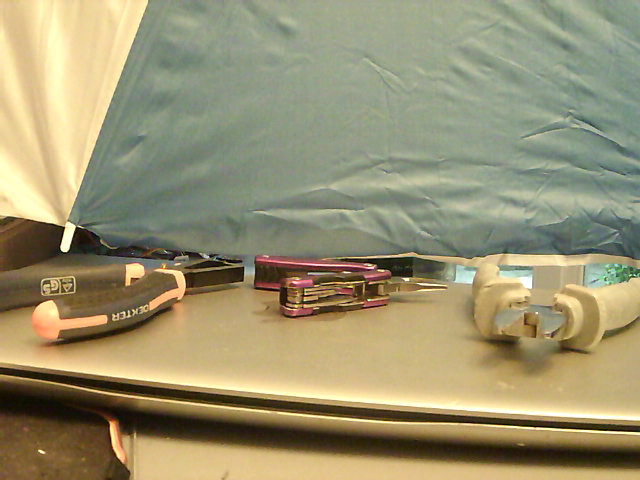pliers: (470, 262, 640, 360), (253, 250, 454, 325)
